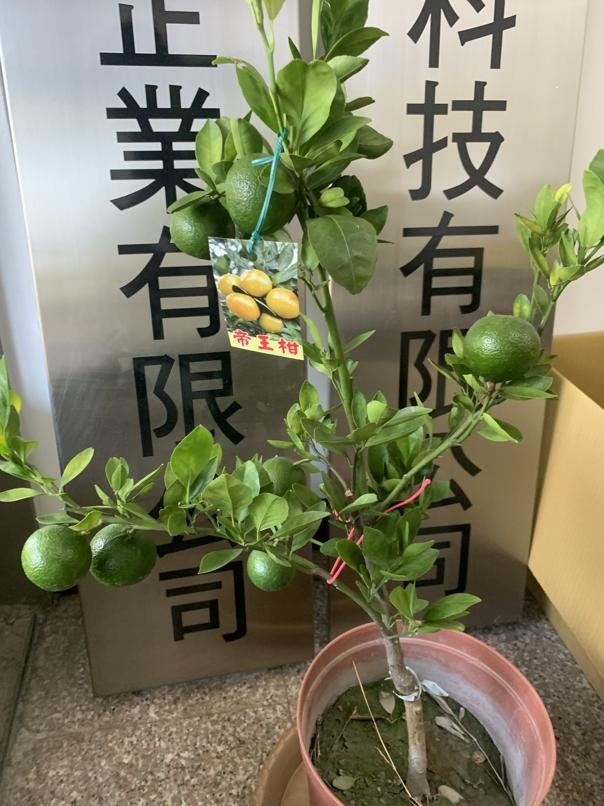Tangerine: (466, 309, 542, 383), (19, 520, 94, 590), (88, 522, 159, 588), (245, 544, 301, 593)
